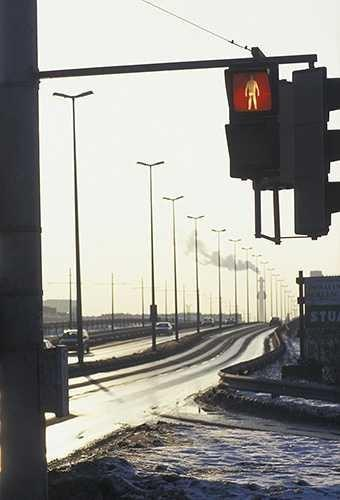red: (223, 63, 282, 177), (224, 66, 274, 115)
